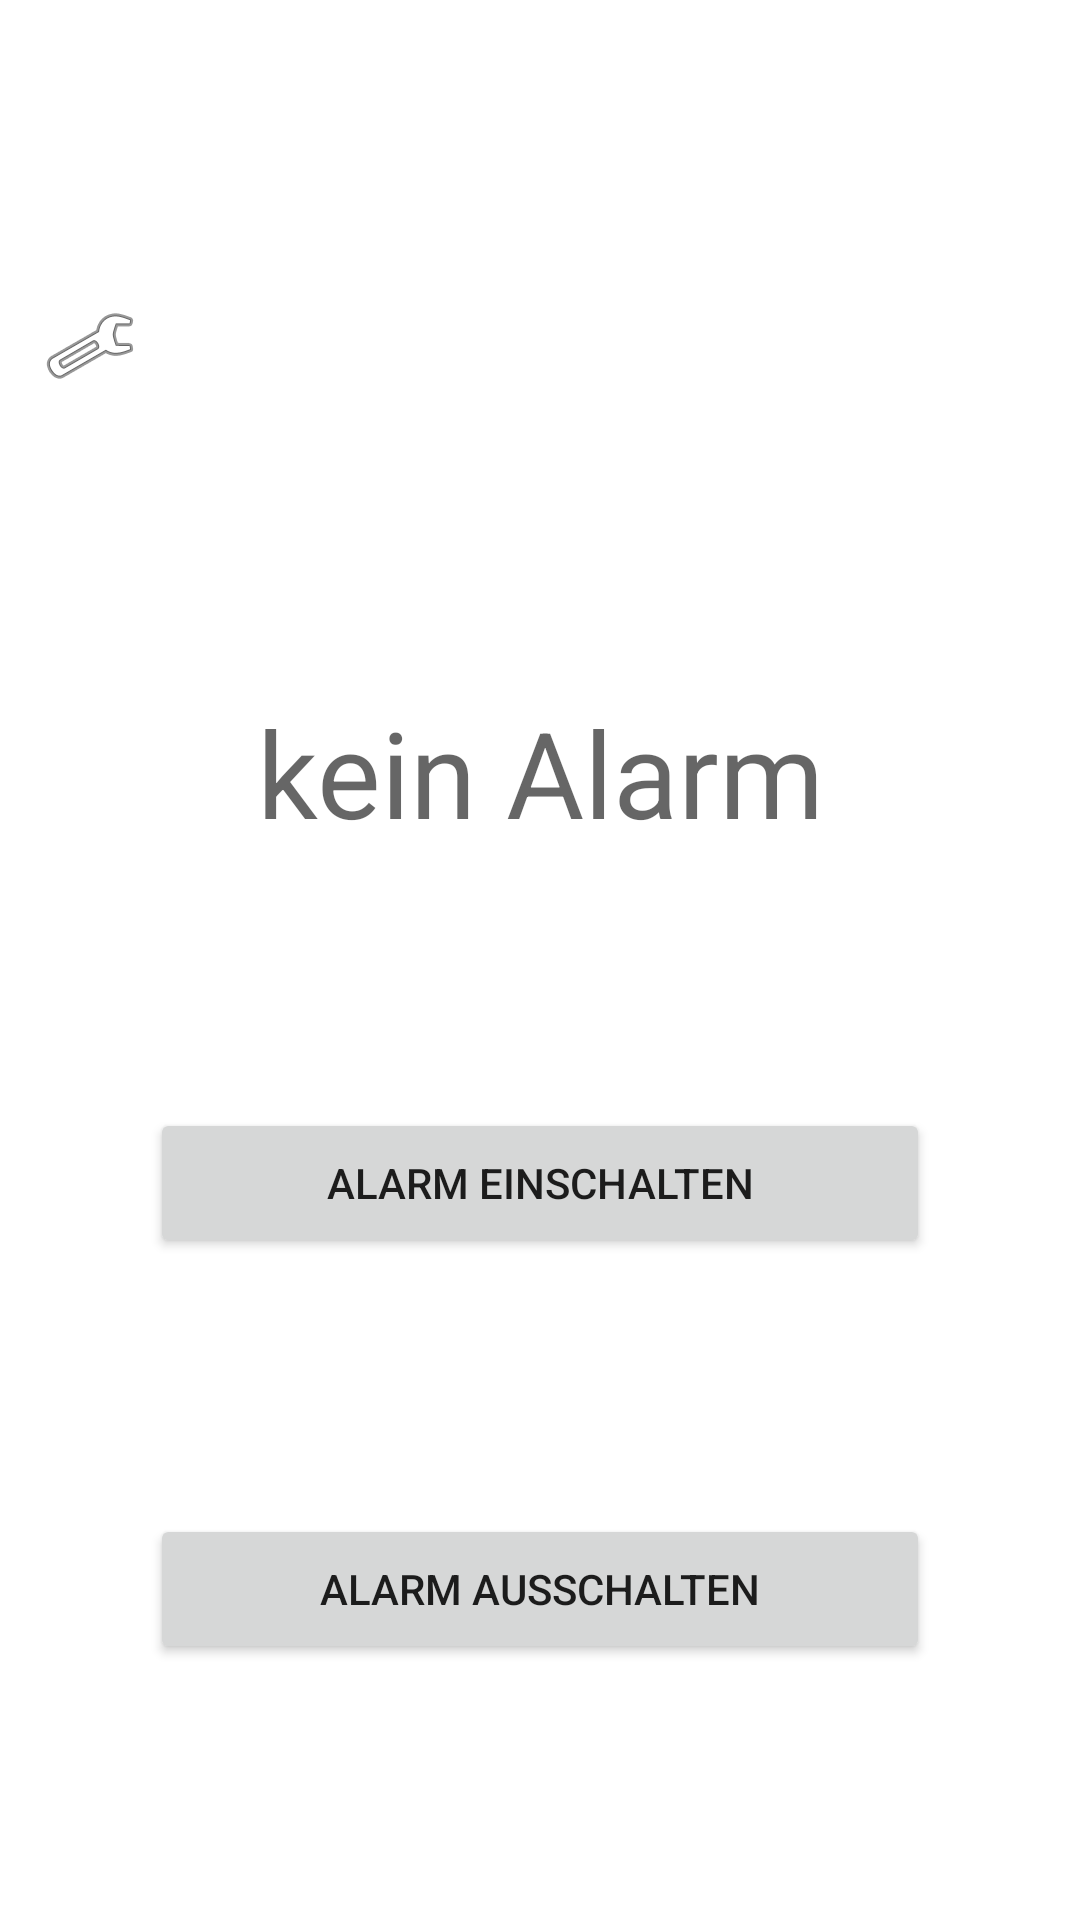

Screen size 1080 × 1920. Icon name, then its center in pixels as [x,y]:
manage: [90,346]
